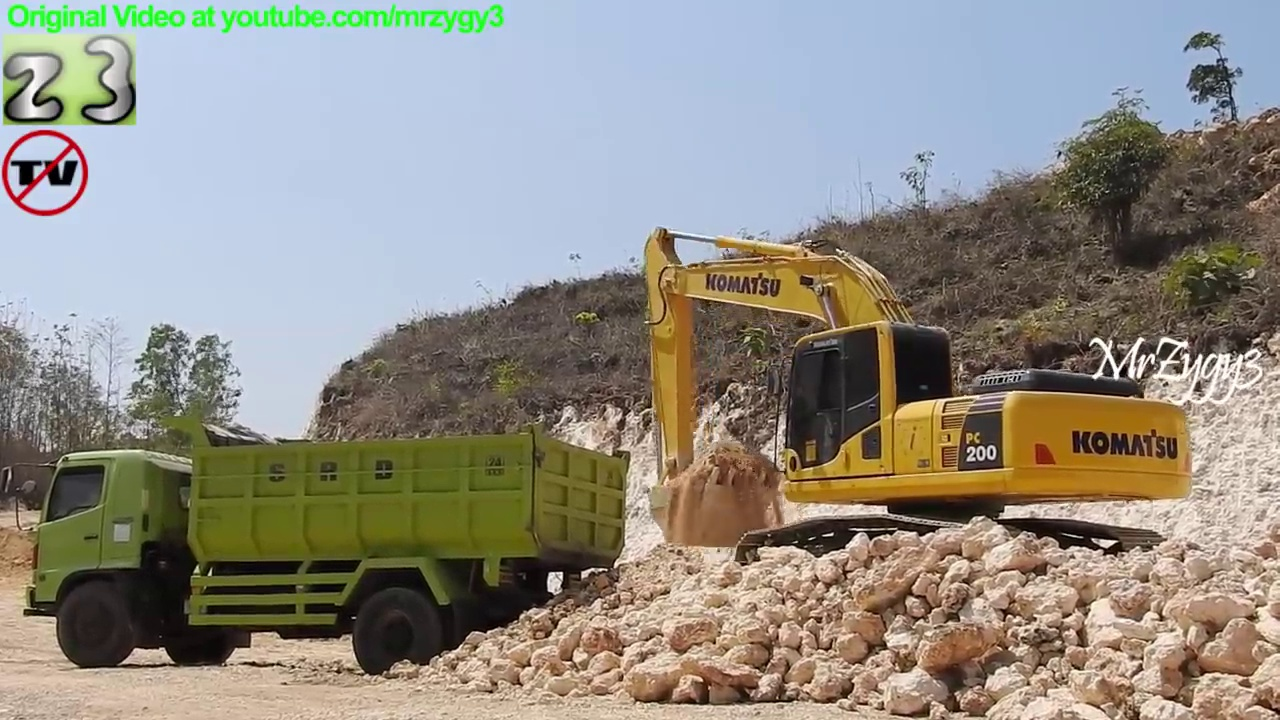excavator: (634, 217, 1206, 596)
truck: (1, 411, 637, 681)
